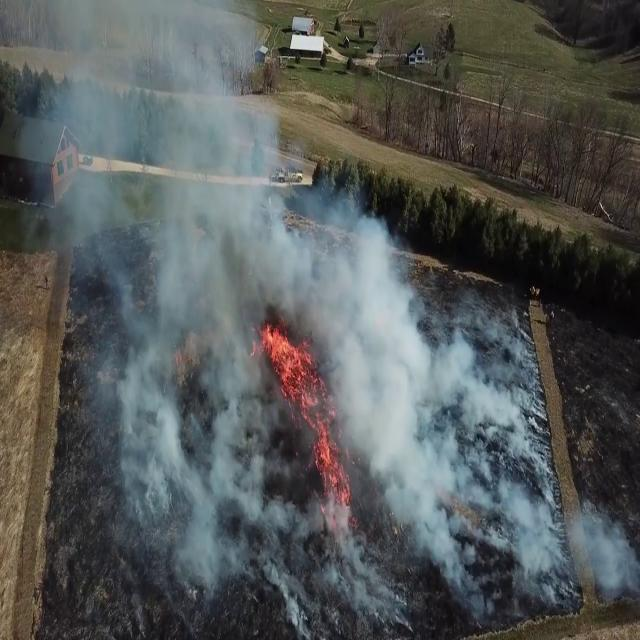Fire: (257, 302, 347, 504)
Smoke: (33, 32, 531, 628)
